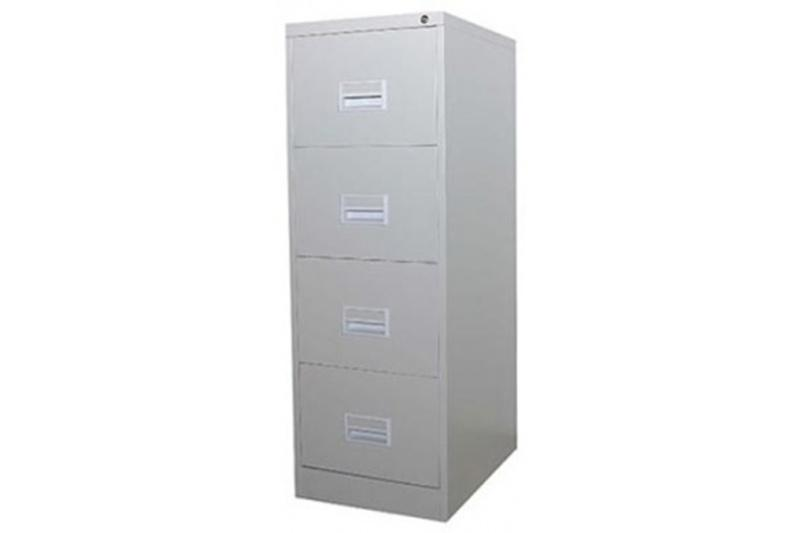cabinet_door: (296, 38, 438, 147), (295, 374, 439, 480), (297, 150, 438, 256), (296, 263, 434, 367)
handle: (344, 422, 388, 442), (341, 206, 390, 221), (341, 93, 389, 107), (342, 321, 389, 335)
